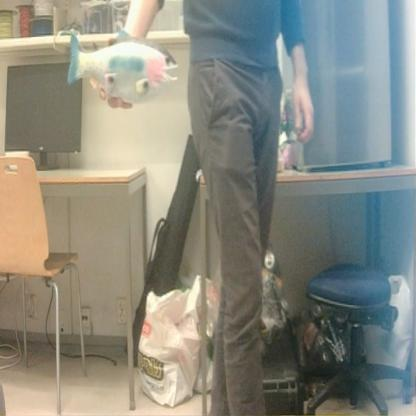rubberfish: (64, 25, 181, 109)
